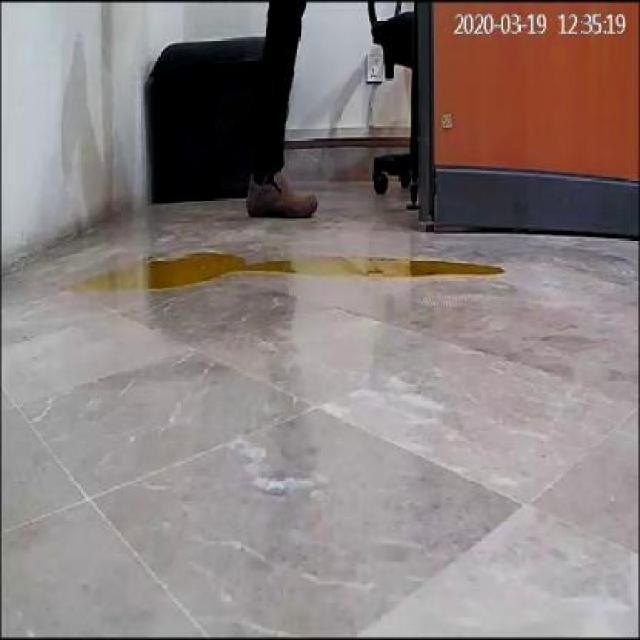spill: (86, 250, 508, 292)
